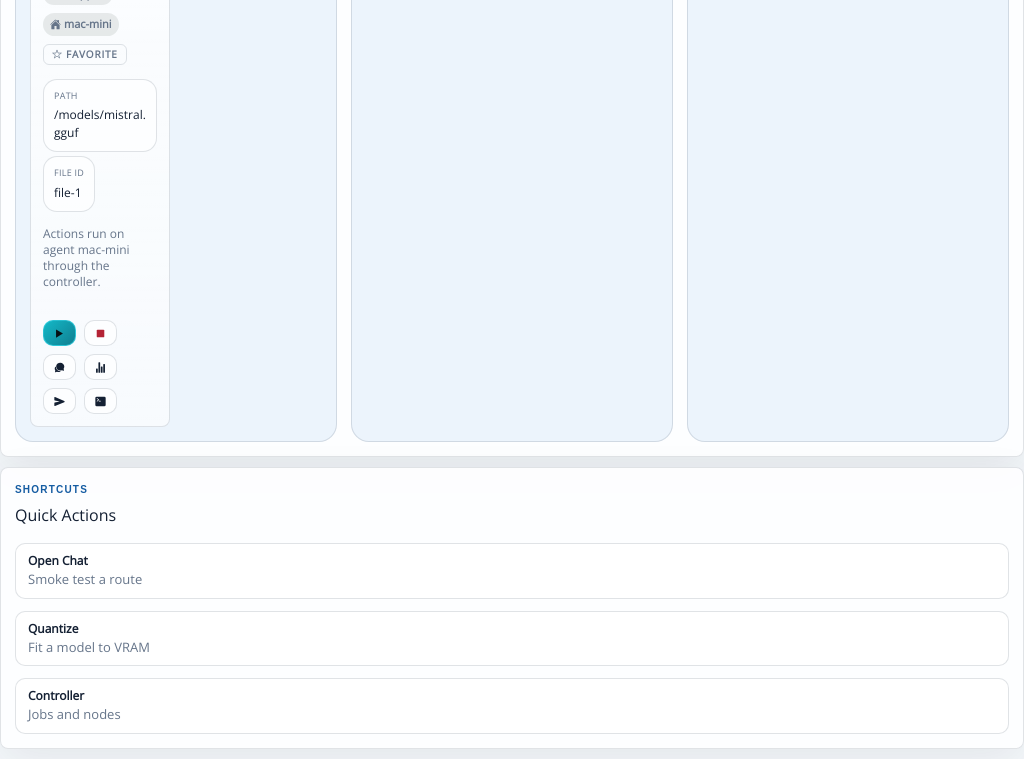
Test: sends dashboard local models to another reachable node
(page scrolled)
Click the button named "Send mistral".
click(60, 401)  # box x1=43 y1=388 x2=76 y2=414
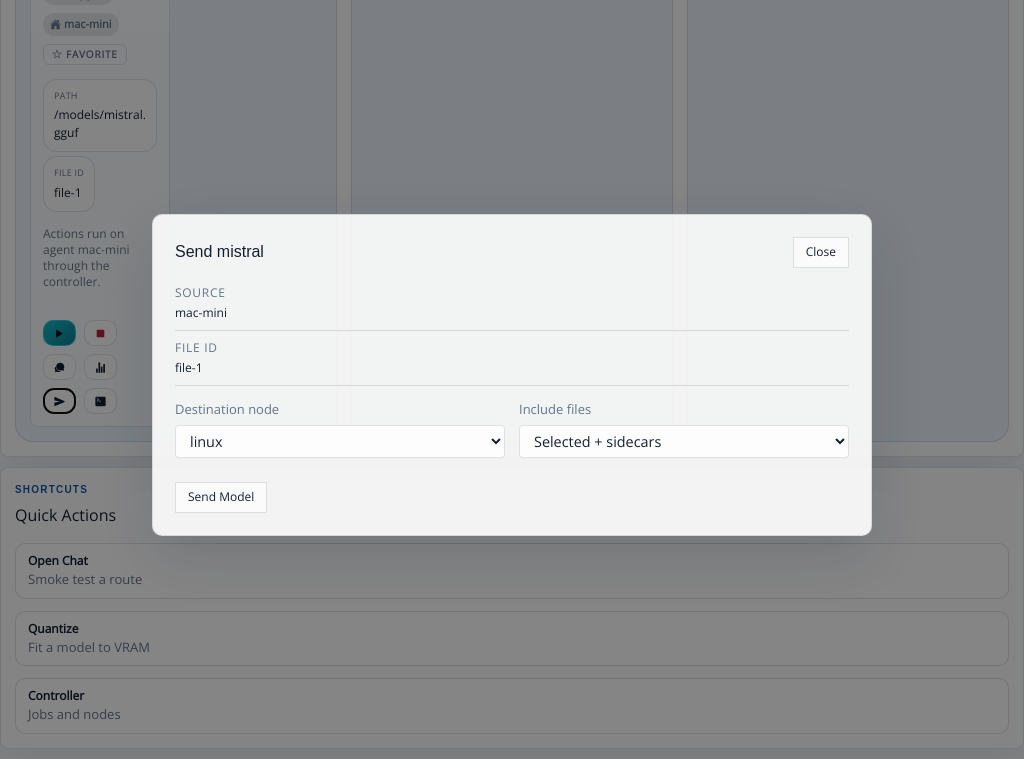
Check: the heading "Send mistral" is shown, box x1=175 y1=240 x2=264 y2=264
Select "linux" in the dropdown labelled "Destination node" at (340, 442), box x1=175 y1=425 x2=505 y2=458
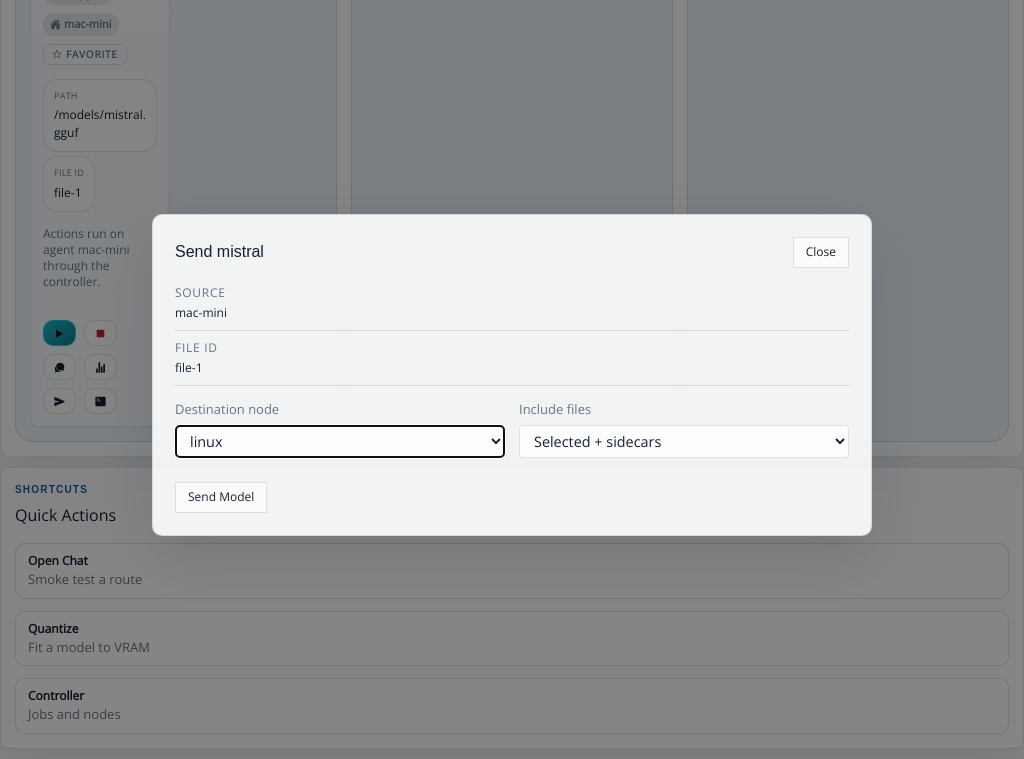
Select "Selected only" in the dropdown labelled "Include files" at (684, 442), box x1=519 y1=425 x2=849 y2=458
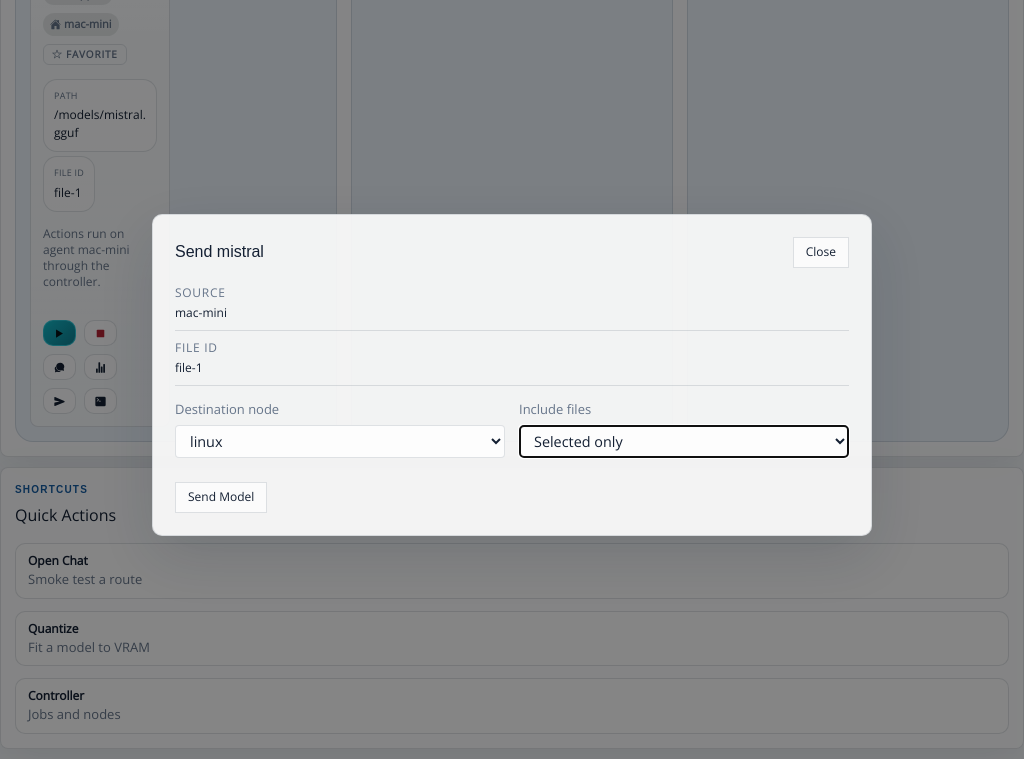
Click the button "Send Model".
click(221, 498)  # box x1=175 y1=482 x2=267 y2=513
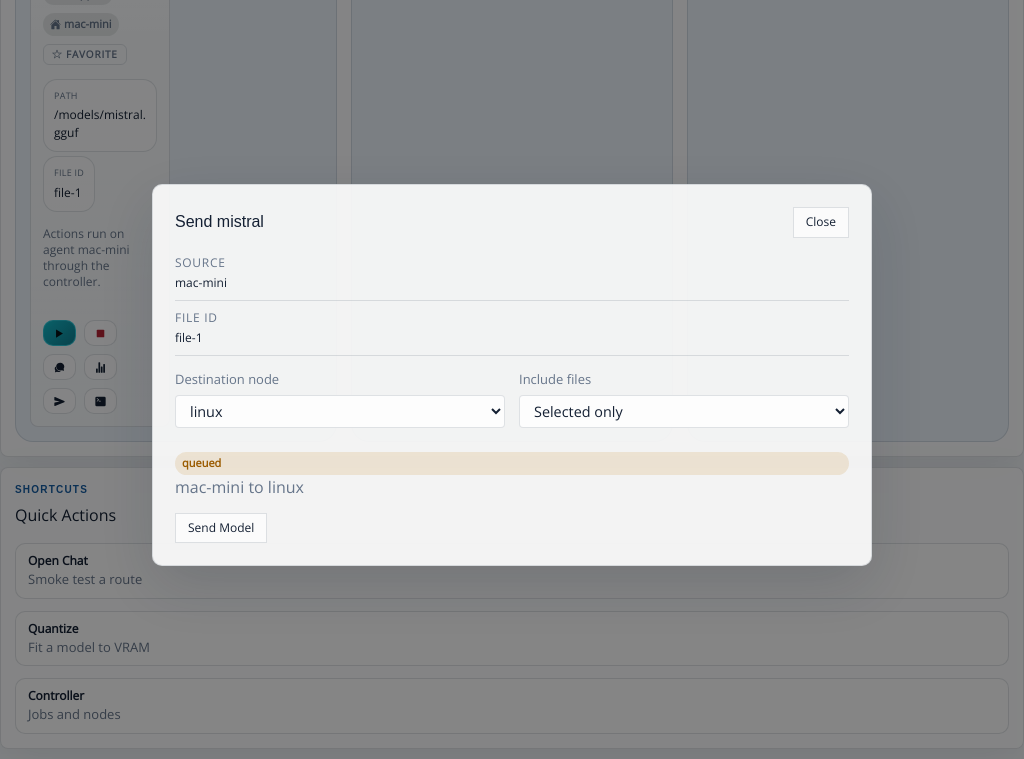
Check: the text "queued" is shown, box x1=175 y1=452 x2=849 y2=474
